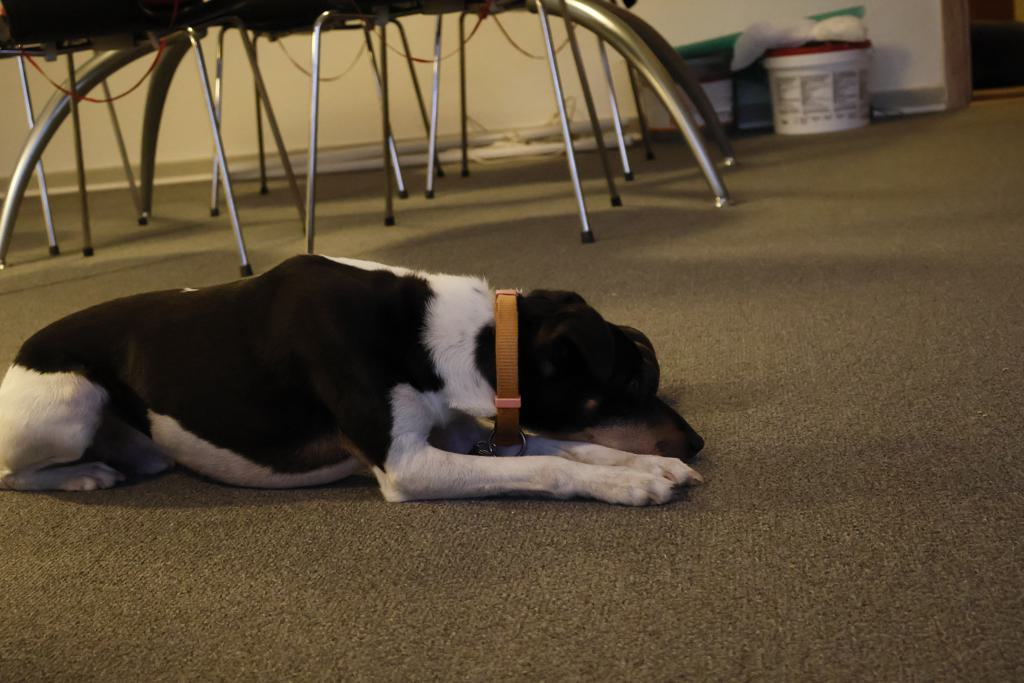Dog: (0, 248, 733, 515)
